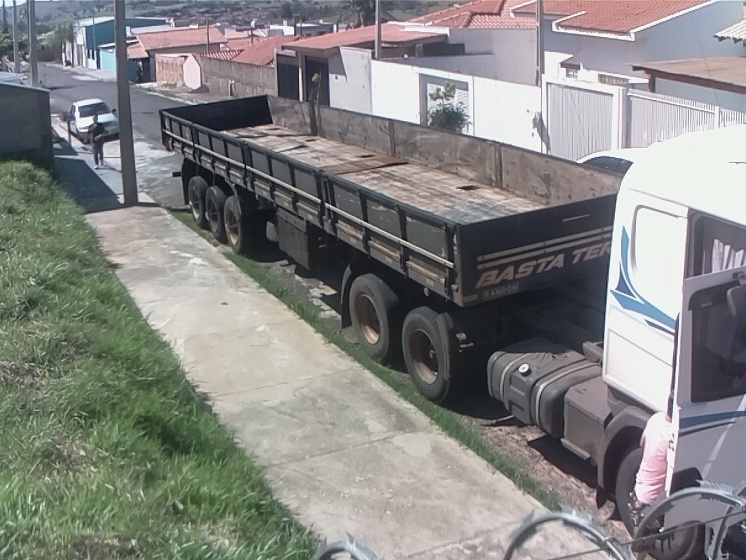person: (629, 388, 674, 560), (85, 110, 111, 169)
